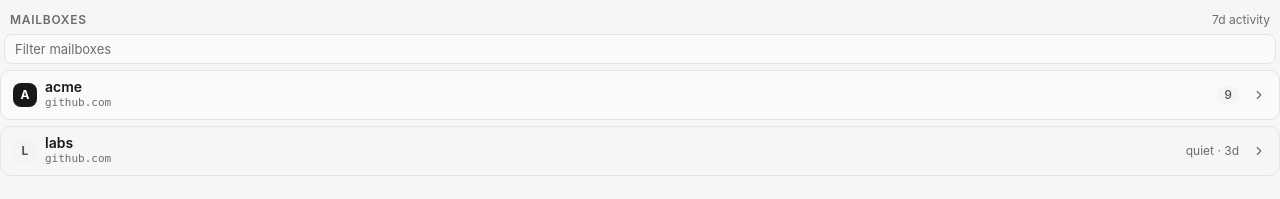
Test: MailboxTree › filters by text and auto-expands matches
Type "triage" into the field labelled "Filter mailboxes" at (640, 49), box [4,34,1276,64]
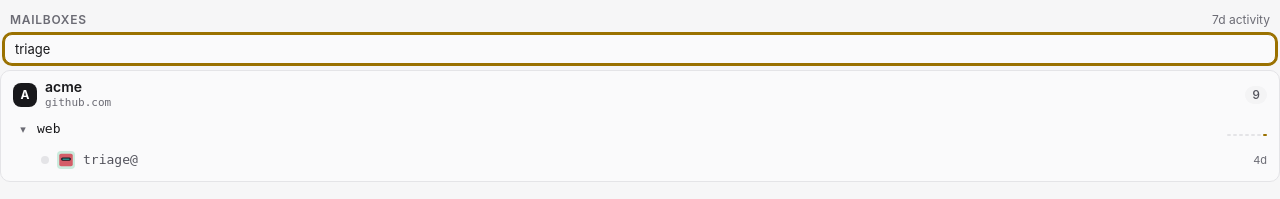
expect the number of elements with test id "org-block" is 1: met, box [0,70,1279,182]
expect the text "triage@" is shown: met, box [83,152,138,167]
Replace the text in the field named "Filter mailboxes" with "nope" at (640, 49), box [4,34,1276,64]
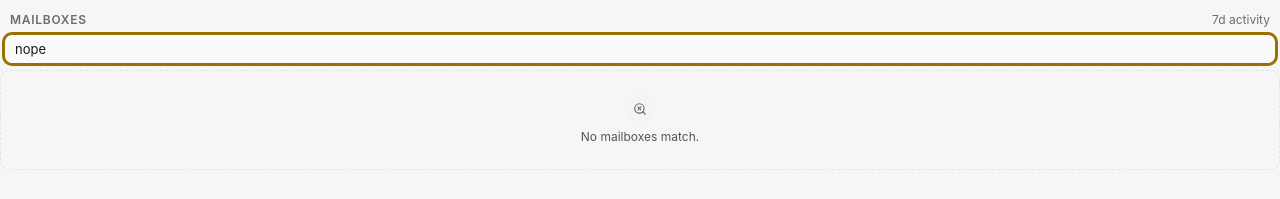
expect the text "No mailboxes match." is shown: met, box [581,129,699,145]
